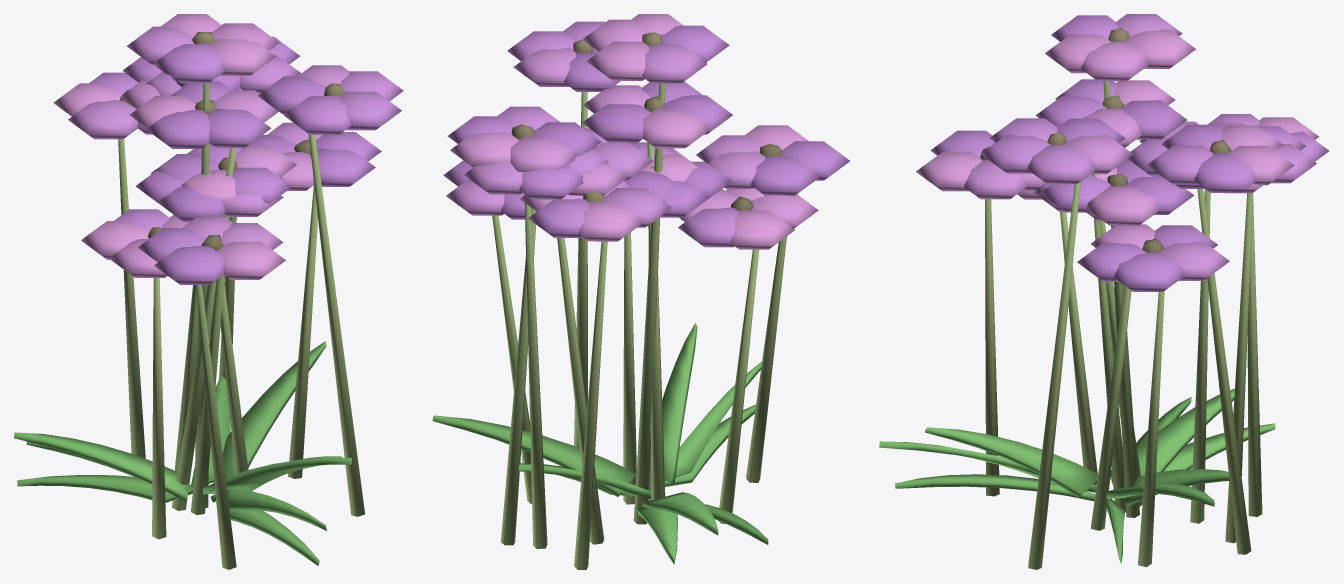
Rendered from poppy_2.glb.
The picture shows the model from 3 angles, left to right: view 1: azimuth 30°, elevation 25°; view 2: azimuth 150°, elevation 25°; view 3: azimuth 270°, elevation 25°; orthographic projection.
Visible parts, largest first — view 1: poppy; view 2: poppy; view 3: poppy.
Boxes of the visible parts, x1,y1,x2,y2 form: poppy: (14, 14, 403, 569); poppy: (432, 14, 849, 569); poppy: (879, 14, 1329, 569).
Bounding box in the file's own units: 0.3566 × 0.4919 × 0.4146.
